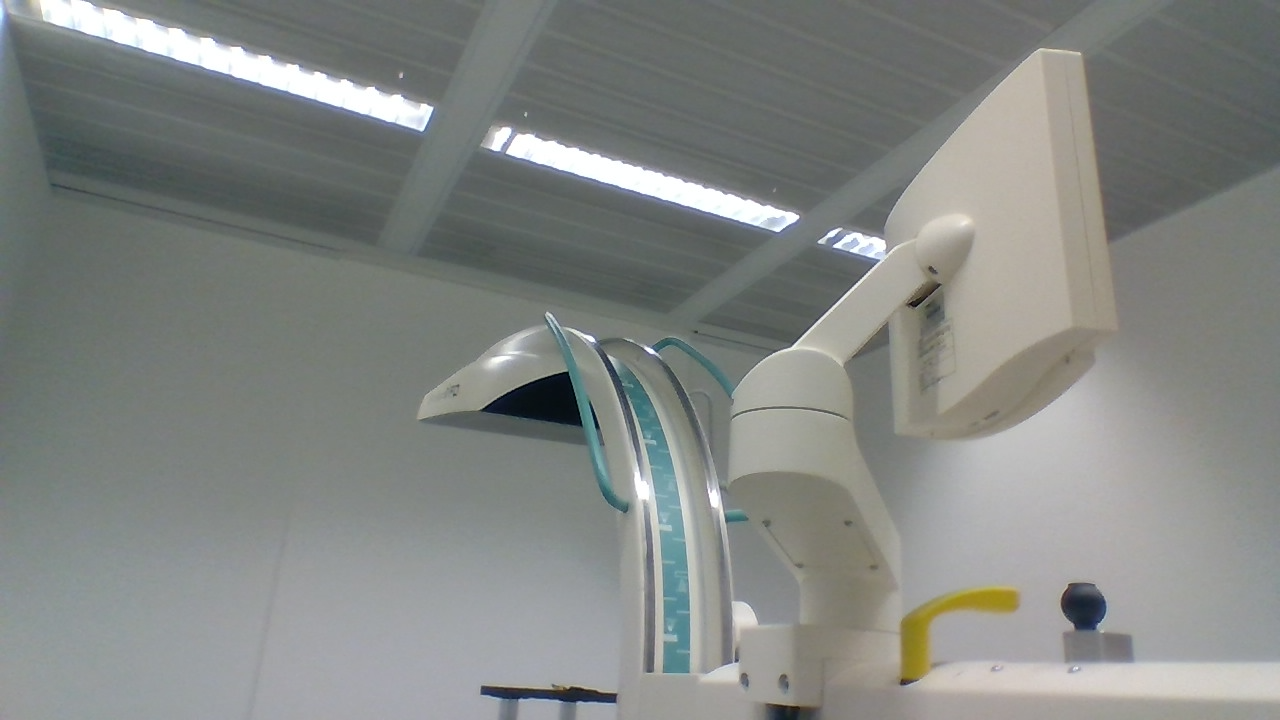carmSCREEN: (882, 44, 1118, 439)
carmUP: (414, 324, 669, 448)
